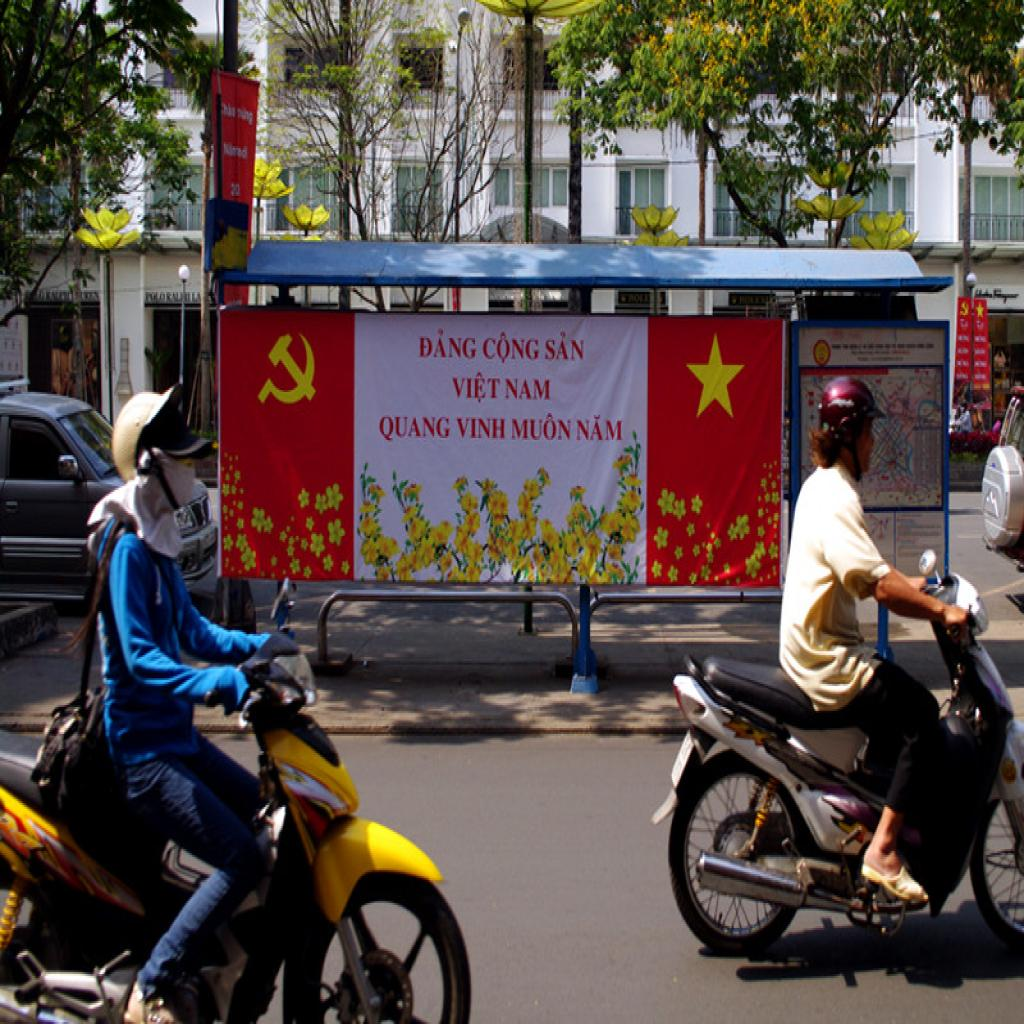text: (378, 411, 453, 446), (483, 330, 540, 369), (416, 327, 479, 361), (511, 411, 573, 444), (452, 371, 502, 405), (576, 413, 625, 444), (544, 329, 586, 365), (504, 374, 554, 404), (454, 417, 508, 442)
